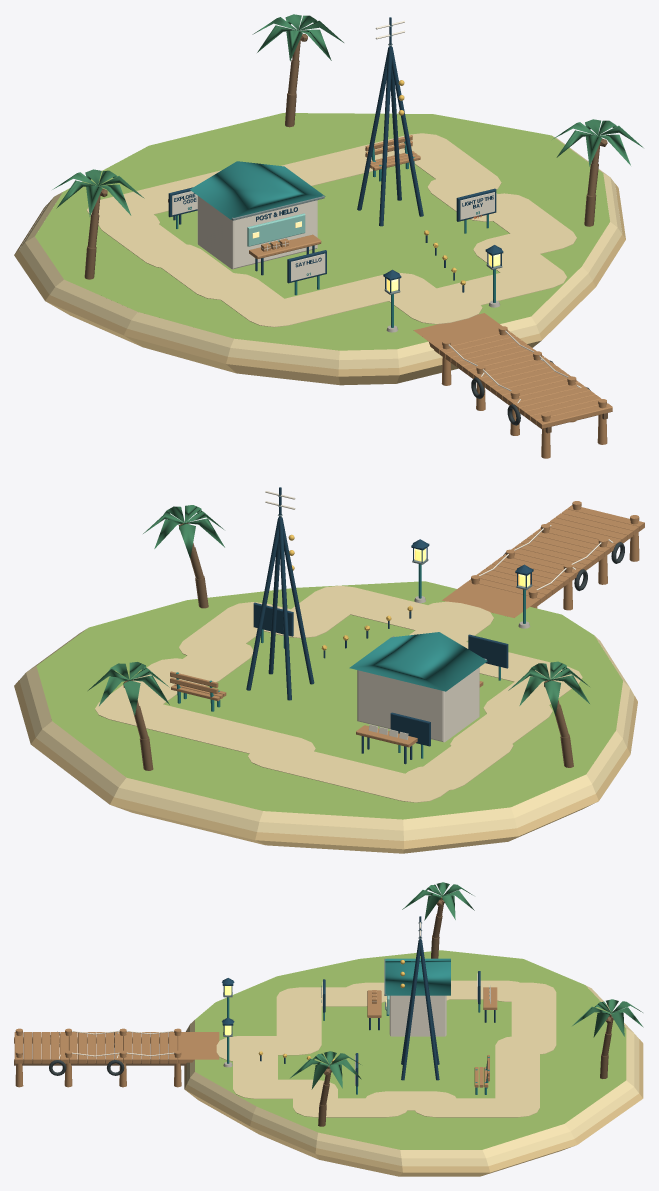
File: connect.glb
The picture shows the model from 3 angles, top to bottom: view 1: azimuth 30°, elevation 25°; view 2: azimuth 150°, elevation 25°; view 3: azimuth 270°, elevation 25°; orthographic projection. The views are drawn at different scales.
Visible parts, largest first — view 1: static_grass, static_sand, static_wood, static_sandEdge, occluder_connect_roof_teal, static_ivory, static_navy, occluder_connect_tree_12_leaf, occluder_connect_tree_4_leaf, occluder_connect_tree_8_leaf, static_glass, occluder_connect_tree_8_darkWood (+4 smaller); view 2: static_grass, static_sand, static_wood, static_sandEdge, static_ivory, occluder_connect_roof_teal, static_navy, occluder_connect_tree_8_leaf, occluder_connect_tree_4_leaf, occluder_connect_tree_12_leaf, station_hello_navy, station_repository_navy (+4 smaller); view 3: static_grass, static_sand, static_wood, static_sandEdge, static_ivory, occluder_connect_roof_teal, static_navy, occluder_connect_tree_4_leaf, occluder_connect_tree_12_leaf, occluder_connect_tree_8_leaf, static_darkWood, occluder_connect_tree_8_darkWood (+2 smaller).
Boxes of the visible parts, x1,y1,x2,y2 form: static_grass: [35, 113, 609, 350]; static_sand: [19, 133, 622, 369]; static_wood: [168, 135, 612, 458]; static_sandEdge: [14, 184, 625, 385]; occluder_connect_roof_teal: [190, 161, 325, 219]; static_ivory: [197, 196, 581, 403]; static_navy: [173, 46, 503, 292]; occluder_connect_tree_12_leaf: [552, 119, 643, 166]; occluder_connect_tree_4_leaf: [52, 169, 144, 216]; occluder_connect_tree_8_leaf: [252, 14, 343, 61]; static_glass: [247, 213, 305, 246]; occluder_connect_tree_8_darkWood: [285, 31, 307, 127]; static_grass: [36, 581, 622, 819]; static_sand: [19, 585, 634, 840]; static_wood: [170, 501, 644, 747]; static_sandEdge: [14, 680, 637, 853]; static_ivory: [357, 525, 613, 742]; occluder_connect_roof_teal: [349, 632, 487, 691]; static_navy: [246, 517, 533, 764]; occluder_connect_tree_8_leaf: [88, 662, 169, 715]; occluder_connect_tree_4_leaf: [508, 661, 589, 715]; occluder_connect_tree_12_leaf: [143, 505, 224, 558]; station_hello_navy: [468, 634, 508, 668]; station_repository_navy: [390, 712, 430, 746]; static_grass: [195, 950, 626, 1149]; static_sand: [187, 980, 639, 1166]; static_wood: [14, 987, 497, 1087]; static_sandEdge: [184, 1030, 643, 1176]; static_ivory: [59, 985, 490, 1058]; occluder_connect_roof_teal: [385, 958, 450, 995]; static_navy: [222, 939, 495, 1080]; occluder_connect_tree_4_leaf: [402, 882, 474, 920]; occluder_connect_tree_12_leaf: [290, 1051, 361, 1089]; occluder_connect_tree_8_leaf: [572, 999, 643, 1037]; static_darkWood: [14, 1037, 186, 1065]; occluder_connect_tree_8_darkWood: [600, 1014, 613, 1078].
Bounding box in the file's own units: 23 × 9.32 × 28.88.
